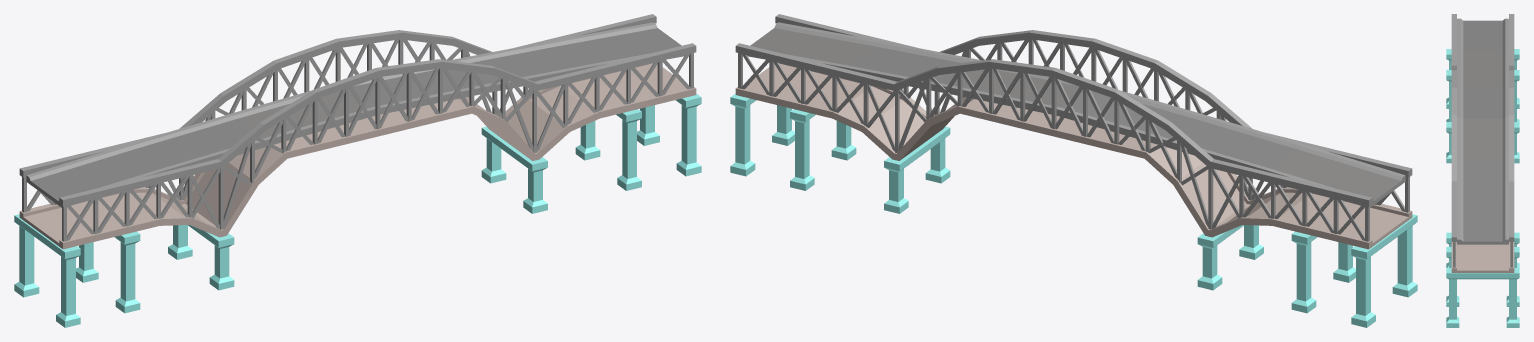
File: Bridge.fbx
3 renders of one model, left to right at view 1: azimuth 30°, elevation 25°; view 2: azimuth 150°, elevation 25°; view 3: azimuth 270°, elevation 25°, orthographic. The views are drawn at different scales.
Parts seen in each view (by area): view 1: mesh_bridge; view 2: mesh_bridge; view 3: mesh_bridge.
Boxes of the visible parts, bbox=[...] form: mesh_bridge: bbox=[14, 14, 701, 327]; mesh_bridge: bbox=[730, 14, 1417, 327]; mesh_bridge: bbox=[1446, 14, 1519, 327].
Size of the model in its own units: 20.3 by 5.4 by 2.8.
